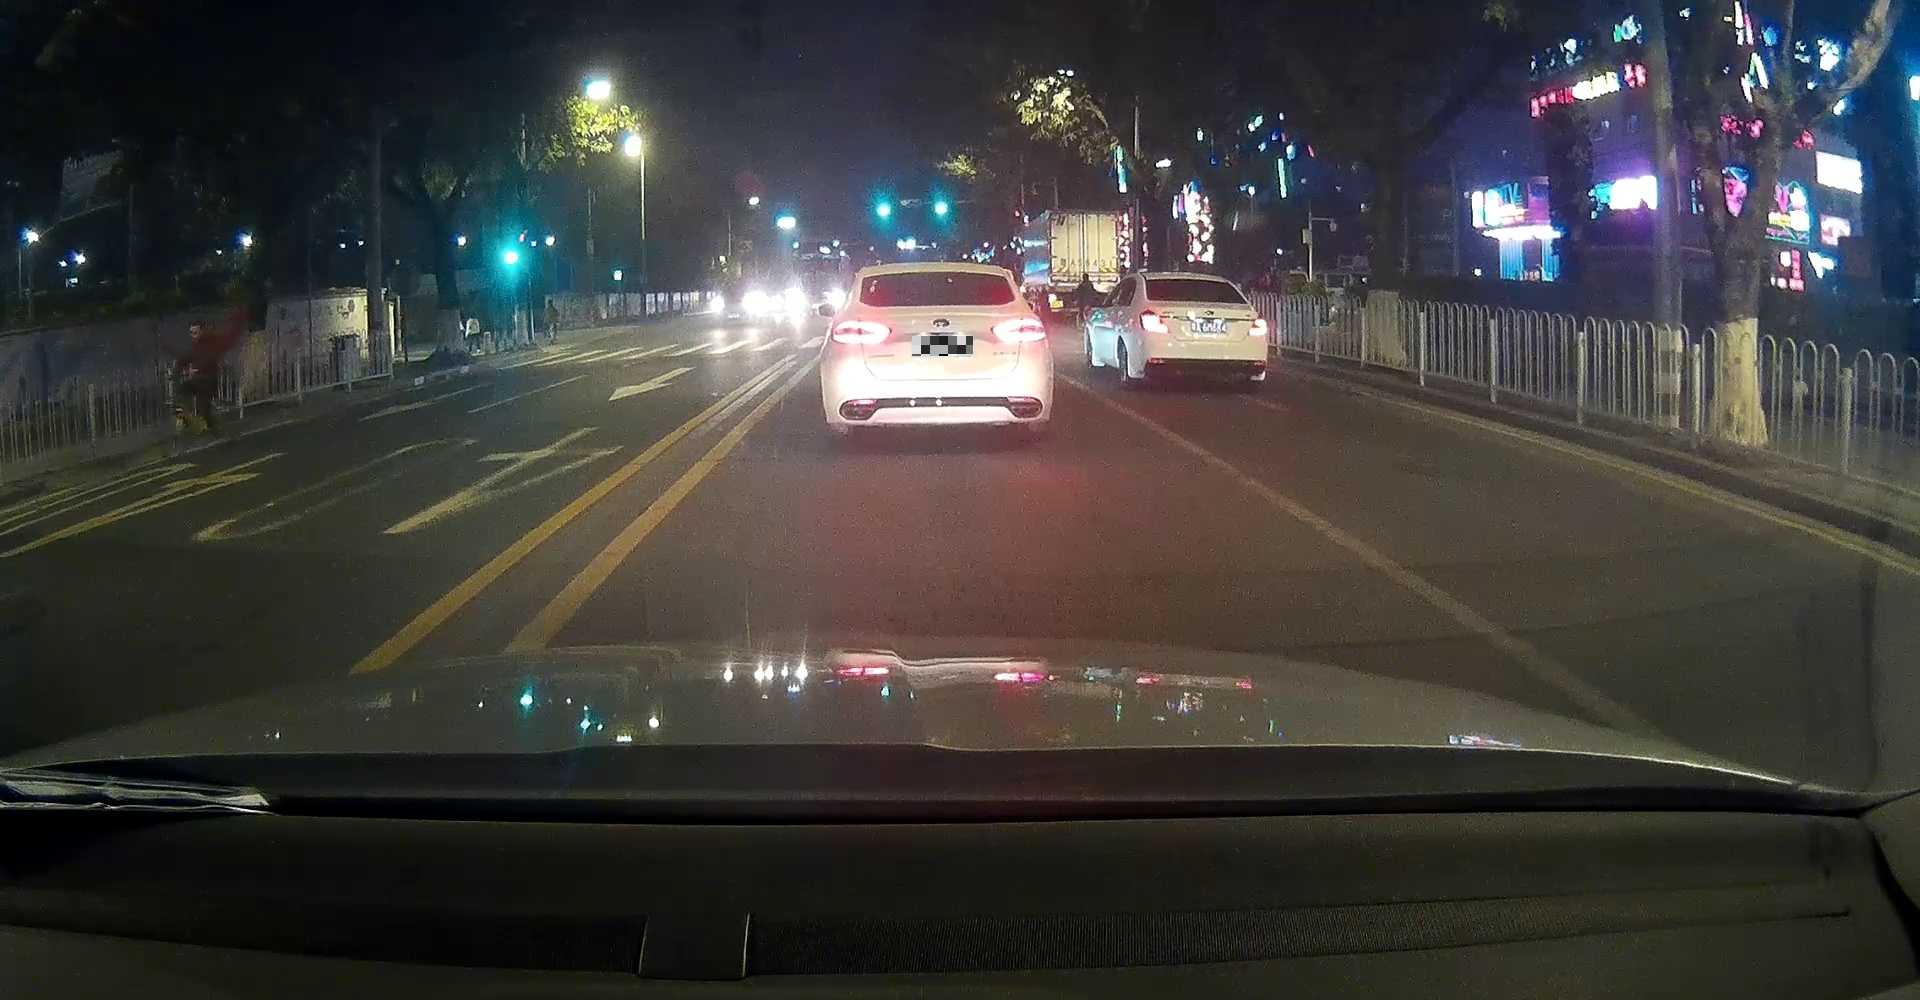L_light: (830, 319, 891, 345), (1140, 313, 1168, 332)
R_light: (992, 317, 1046, 344), (1248, 319, 1269, 336)
T_light: (923, 272, 955, 278), (1183, 279, 1205, 284)
night-no: (818, 261, 1053, 442), (1140, 272, 1269, 390)
plate_1: (912, 336, 973, 357)
